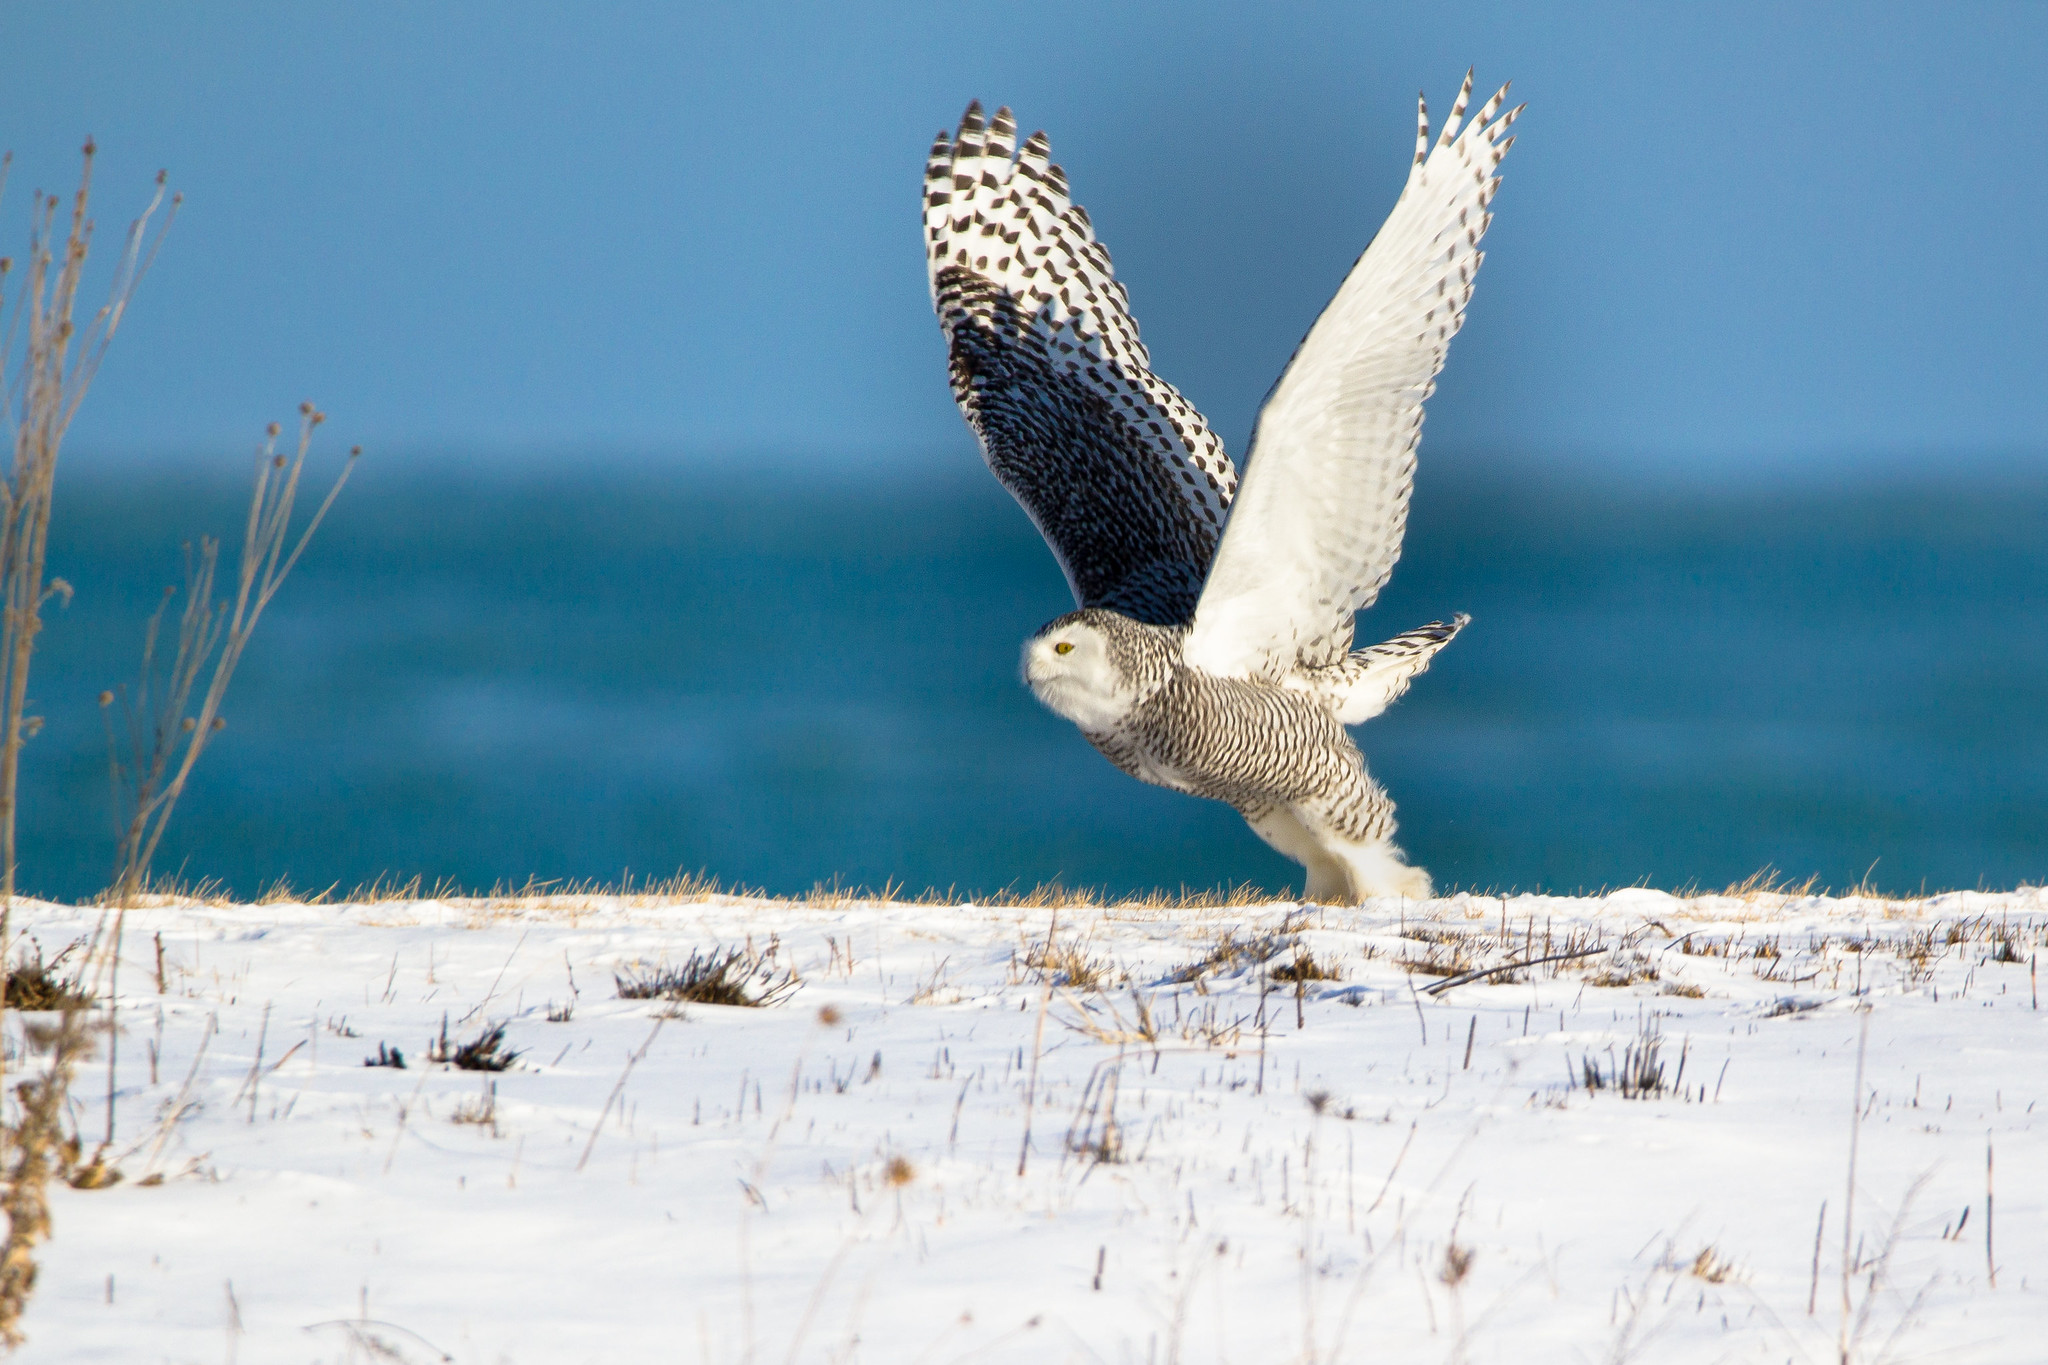bird: (917, 76, 1520, 911)
